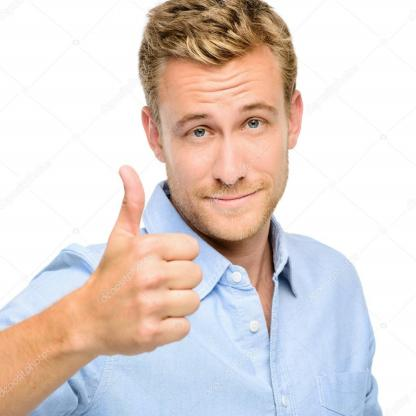Thumbs-Up: (93, 165, 201, 356)
